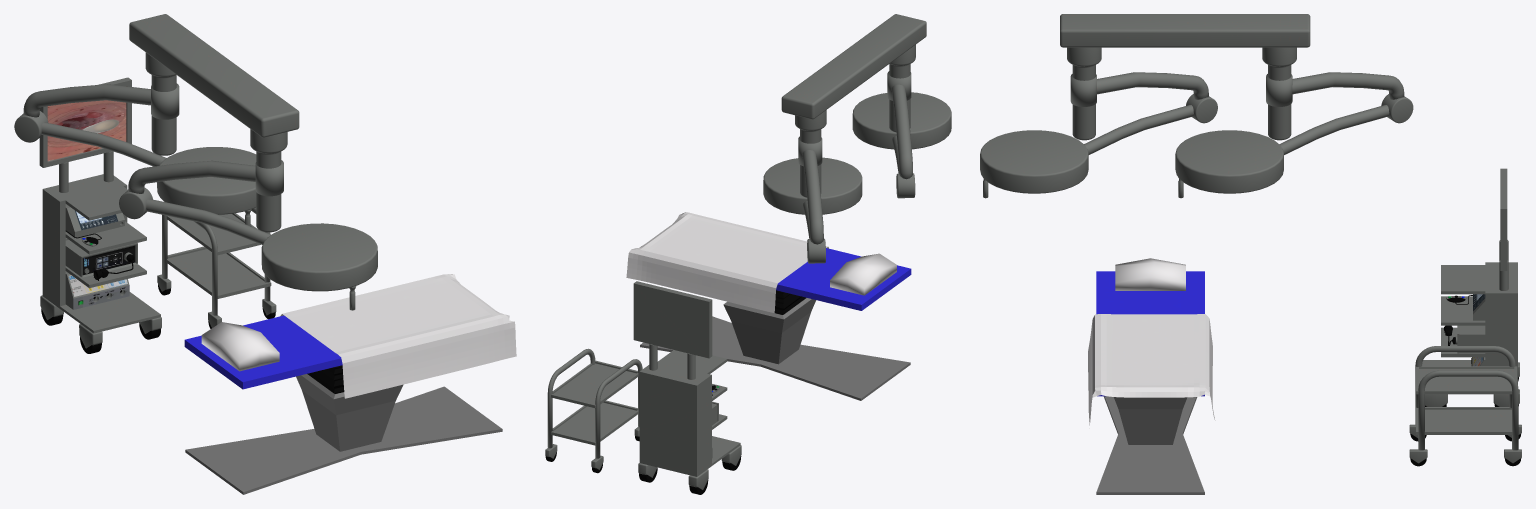
Rendered from equipset.glb.
3 renders of one model, left to right at view 1: azimuth 30°, elevation 25°; view 2: azimuth 150°, elevation 25°; view 3: azimuth 270°, elevation 25°, orthographic. The views are drawn at different scales.
Parts seen in each view (by area): view 1: Obj_OP_Bett, Obj_Oplicht, Obj_Computer, Obj_Schiebewagen; view 2: Obj_OP_Bett, Obj_Oplicht, Obj_Computer, Obj_Schiebewagen; view 3: Obj_Oplicht, Obj_OP_Bett, Obj_Computer, Obj_Schiebewagen.
Part boxes in pixels (left/top/right/bottom): Obj_OP_Bett: left=184, top=274, right=516, bottom=494; Obj_Oplicht: left=14, top=14, right=377, bottom=310; Obj_Computer: left=39, top=77, right=161, bottom=353; Obj_Schiebewagen: left=157, top=207, right=276, bottom=328; Obj_OP_Bett: left=626, top=212, right=911, bottom=400; Obj_Oplicht: left=763, top=14, right=951, bottom=263; Obj_Computer: left=633, top=281, right=741, bottom=494; Obj_Schiebewagen: left=545, top=348, right=642, bottom=473; Obj_Oplicht: left=980, top=14, right=1413, bottom=198; Obj_OP_Bett: left=1088, top=258, right=1215, bottom=494; Obj_Computer: left=1422, top=168, right=1519, bottom=406; Obj_Schiebewagen: left=1409, top=346, right=1521, bottom=466.
Size of the model in its own units: 6.64 by 7.39 by 9.98.
Materials: 5 (5 with a texture image).
